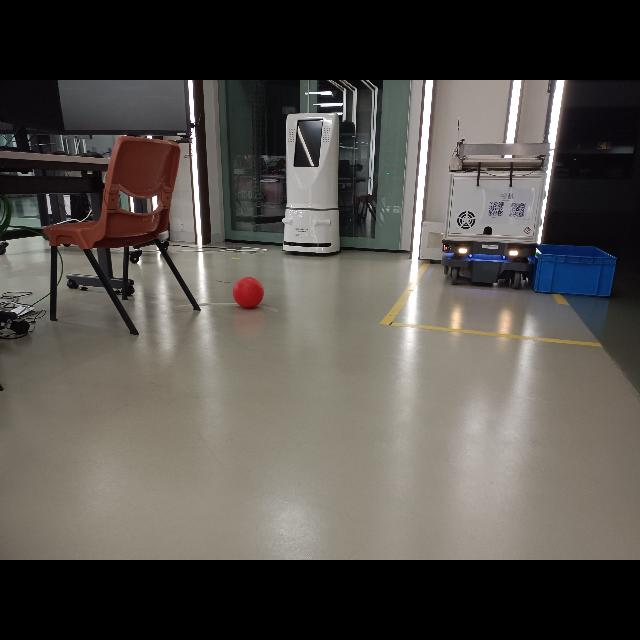R: (232, 276, 264, 308)
